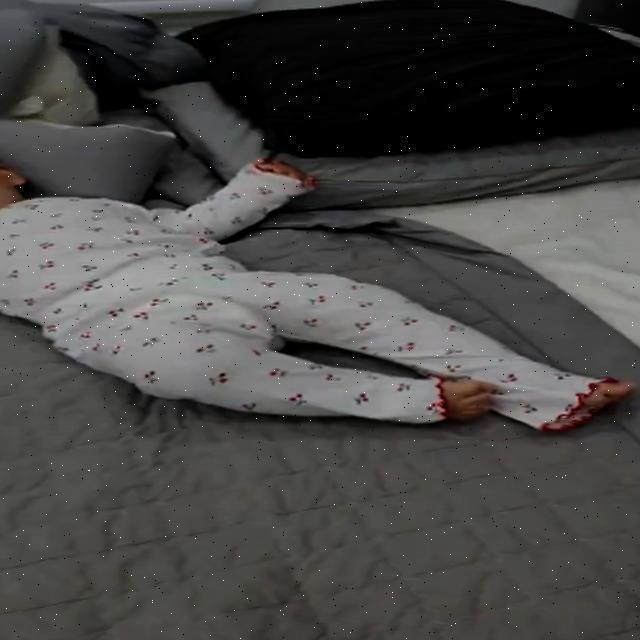child: (0, 143, 638, 436)
